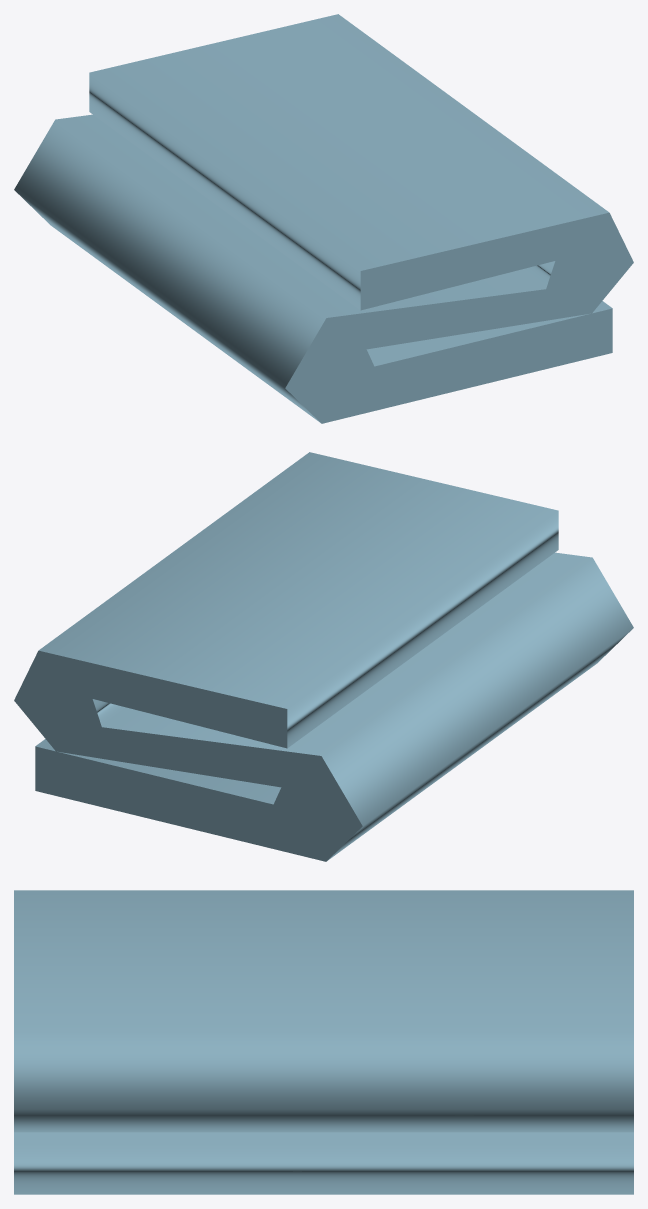
The model's file is Towel 01.fbx.
3 views of the same model, one above another, from view 1: azimuth 30°, elevation 25°; view 2: azimuth 150°, elevation 25°; view 3: azimuth 270°, elevation 25° (orthographic). The views are drawn at different scales.
Parts seen in each view (by area): view 1: Towel_01; view 2: Towel_01; view 3: Towel_01.
Boxes of the visible parts, x1=… form: Towel_01: x1=14, y1=14, x2=633, y2=423; Towel_01: x1=14, y1=452, x2=633, y2=861; Towel_01: x1=14, y1=890, x2=633, y2=1194.
Bounding box in the file's own units: 40.38 × 15.86 × 54.38.
